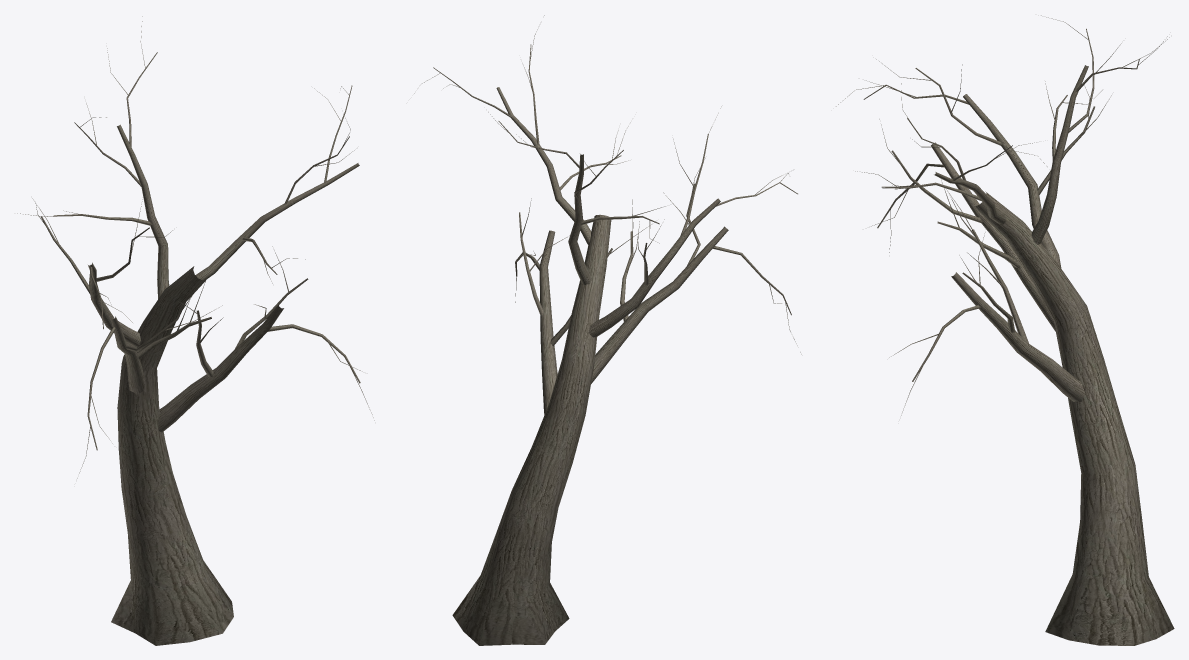
Rendered from tree_dead.glb.
3 views of the same model, side by side, from view 1: azimuth 30°, elevation 25°; view 2: azimuth 150°, elevation 25°; view 3: azimuth 270°, elevation 25° (orthographic). The views are drawn at different scales.
Parts seen in each view (by area): view 1: plant; view 2: plant; view 3: plant.
Part boxes in pixels (left/top/right/bottom): plant: left=17, top=16, right=374, bottom=645; plant: left=414, top=15, right=801, bottom=645; plant: left=836, top=15, right=1174, bottom=645.
Bounding box in the file's own units: 2.98 × 4.78 × 2.49.
Materials: 1 (1 with a texture image).
